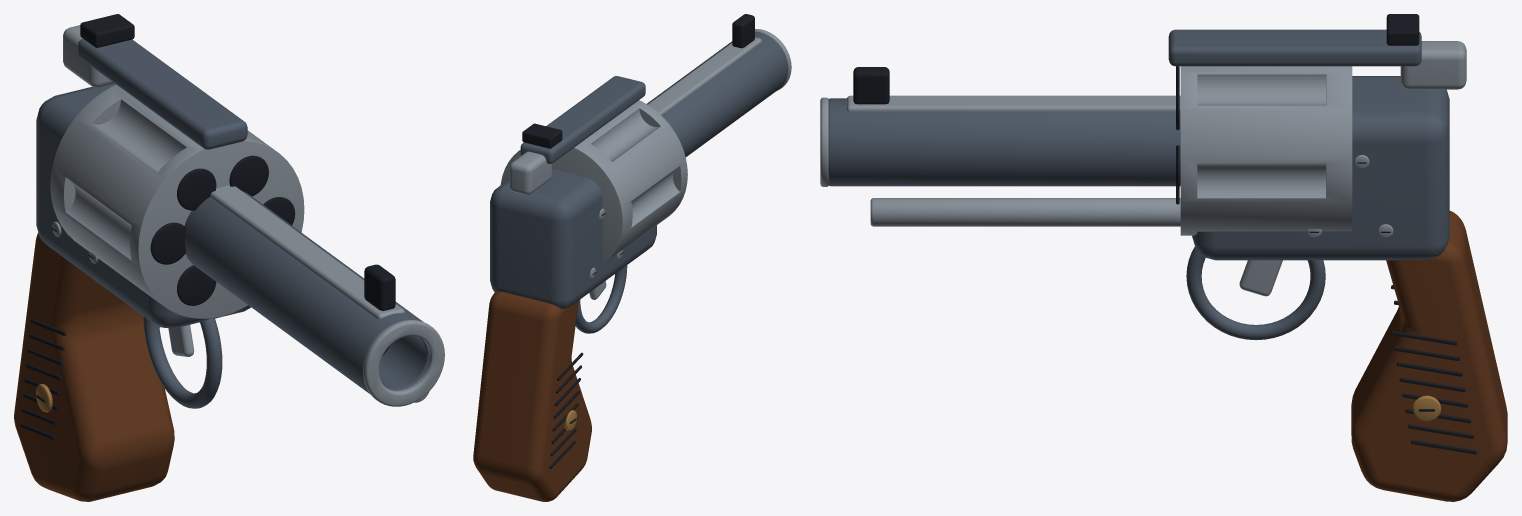
File: revolver-117z.glb
3 renders of one model, left to right at view 1: azimuth 30°, elevation 25°; view 2: azimuth 150°, elevation 25°; view 3: azimuth 270°, elevation 25°, orthographic. The views are drawn at different scales.
Visible parts, largest first — view 1: Crosse sculptée, Barillet, Canon externe, Pont supérieur, Carcasse, Bande du canon, Couronne du canon, Torus, Visée arrière, Chien, Guidon, Face chambre.003 (+5 smaller); view 2: Crosse sculptée, Carcasse, Barillet, Canon externe, Pont supérieur, Bande du canon, Chien, Torus, Visée arrière, Guidon; view 3: Barillet, Crosse sculptée, Canon externe, Carcasse, Pont supérieur, Tige sous canon, Bande du canon, Torus, Chien, Guidon, Détente, Visée arrière (+1 smaller).
Boxes of the visible parts, <box> form: Crosse sculptée: <box>14,232,174,501</box>; Barillet: <box>50,84,304,318</box>; Canon externe: <box>184,191,428,394</box>; Pont supérieur: <box>78,38,247,149</box>; Carcasse: <box>36,84,250,328</box>; Bande du canon: <box>210,185,404,319</box>; Couronne du canon: <box>363,320,444,406</box>; Torus: <box>143,316,222,408</box>; Visée arrière: <box>80,14,134,47</box>; Chien: <box>63,25,114,87</box>; Guidon: <box>364,264,395,310</box>; Face chambre.003: <box>150,222,186,264</box>; Crosse sculptée: <box>473,291,591,501</box>; Carcasse: <box>490,169,656,309</box>; Barillet: <box>500,100,687,264</box>; Canon externe: <box>647,31,788,156</box>; Pont supérieur: <box>520,76,645,163</box>; Bande du canon: <box>647,37,761,115</box>; Chien: <box>509,151,551,194</box>; Torus: <box>575,265,627,333</box>; Visée arrière: <box>522,123,562,148</box>; Guidon: <box>732,14,754,48</box>; Barillet: <box>1180,66,1352,235</box>; Crosse sculptée: <box>1351,211,1507,501</box>; Canon externe: <box>828,98,1180,186</box>; Carcasse: <box>1192,76,1449,260</box>; Pont supérieur: <box>1168,29,1421,66</box>; Tige sous canon: <box>870,198,1180,226</box>; Bande du canon: <box>846,95,1180,111</box>; Torus: <box>1186,247,1325,340</box>; Chien: <box>1400,41,1466,89</box>; Guidon: <box>853,67,889,104</box>; Détente: <box>1239,260,1282,296</box>; Visée arrière: <box>1386,14,1419,45</box>.
Bounding box in the file's own units: 0.196 × 0.5356 × 0.72.
